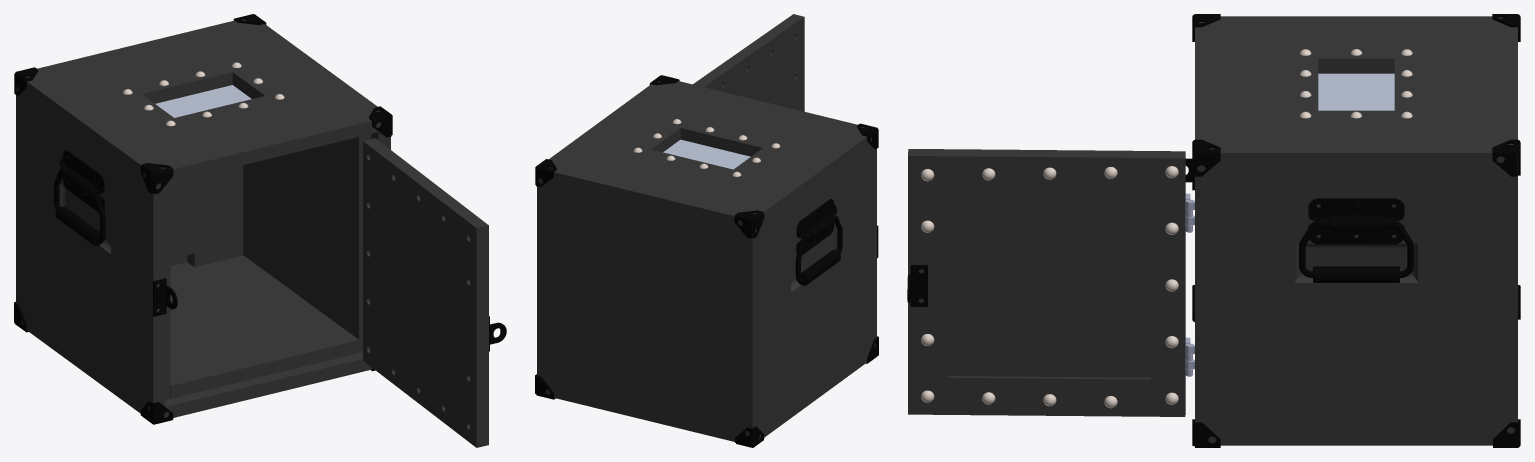
Rendered from safe-box.glb.
3 views of the same model, side by side, from view 1: azimuth 30°, elevation 25°; view 2: azimuth 150°, elevation 25°; view 3: azimuth 270°, elevation 25° (orthographic). The views are drawn at different scales.
Parts seen in each view (by area): view 1: Door, sides_Other Side, Top, Structure, Foam - sides-2, Foam - Floor, Foam, Handle _1885A14-2, rest, Foam - sides, corners-6, Fillet1_1183A12 (+2 smaller); view 2: sides_Back-2, sides_Other Side, Top, Structure, Door, Handle _1885A14-2, rest, corners-8, corners-2, corners-3; view 3: Door, sides, Top, Structure, Handle _1885A14, rest, corners-7, corners-3, Mirror1_1183A12.
Part boxes in pixels (x1,y1,x2,y2): Door: [363, 138, 488, 447]; sides_Other Side: [23, 92, 146, 404]; Top: [36, 24, 370, 164]; Structure: [16, 19, 390, 417]; Foam - sides-2: [243, 134, 371, 352]; Foam - Floor: [170, 255, 359, 398]; Foam: [170, 165, 243, 272]; Handle _1885A14-2: [54, 150, 105, 245]; rest: [155, 85, 251, 117]; Foam - sides: [165, 183, 170, 399]; corners-6: [140, 163, 173, 194]; Fillet1_1183A12: [153, 278, 177, 316]; sides_Back-2: [548, 182, 741, 431]; sides_Other Side: [759, 146, 870, 429]; Top: [555, 84, 858, 211]; Structure: [537, 81, 876, 441]; Door: [693, 14, 804, 111]; Handle _1885A14-2: [795, 199, 842, 285]; rest: [663, 139, 750, 169]; corners-8: [734, 210, 764, 238]; corners-2: [735, 426, 764, 447]; corners-3: [535, 159, 556, 187]; Door: [908, 149, 1185, 416]; sides: [1211, 168, 1501, 430]; Top: [1211, 23, 1501, 145]; Structure: [1195, 16, 1517, 445]; Handle _1885A14: [1299, 198, 1413, 282]; rest: [1318, 73, 1394, 110]; corners-7: [1192, 139, 1220, 176]; corners-3: [1492, 139, 1520, 176]; Mirror1_1183A12: [907, 265, 927, 306].
Bounding box in the file's own units: 0.4218 × 0.3938 × 0.7324.
